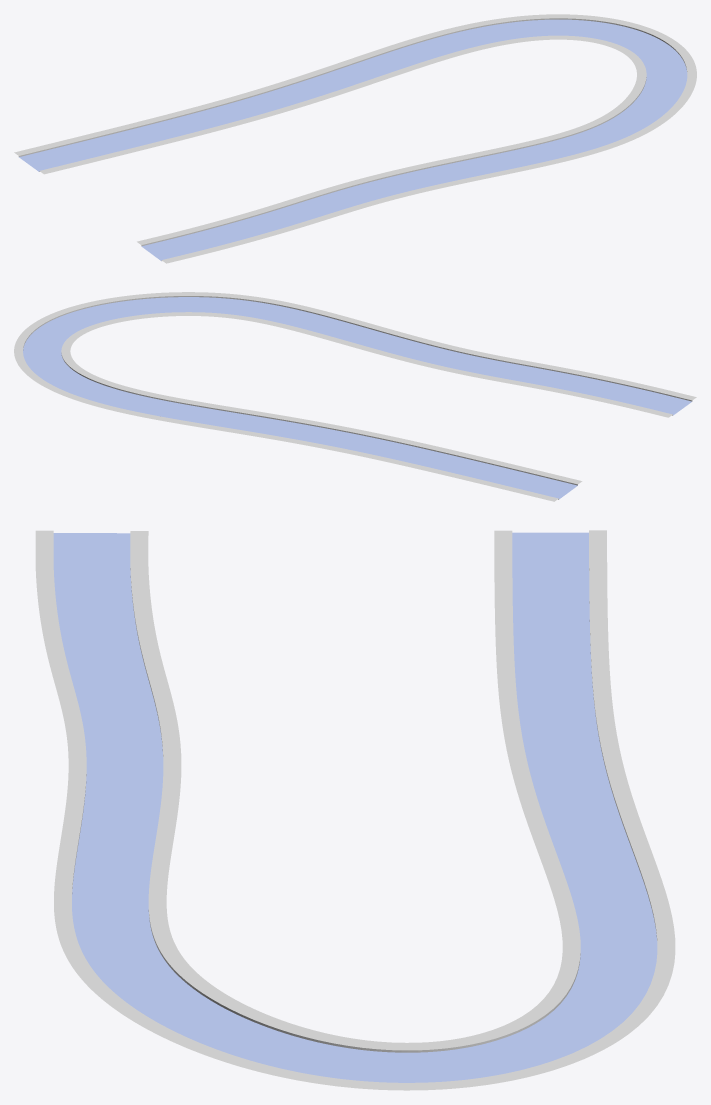
The model's file is road_2.fbx.
3 views of the same model, one above another, from view 1: azimuth 30°, elevation 25°; view 2: azimuth 150°, elevation 25°; view 3: azimuth 270°, elevation 25° (orthographic). The views are drawn at different scales.
Parts seen in each view (by area): view 1: Plane.003; view 2: Plane.003; view 3: Plane.003.
Boxes of the visible parts, box(x1,y1,x2,y2) form: Plane.003: box(14, 14, 696, 263); Plane.003: box(14, 292, 696, 501); Plane.003: box(35, 530, 675, 1090).
Bounding box in the file's own units: 11409 × 21.45 × 5510.
